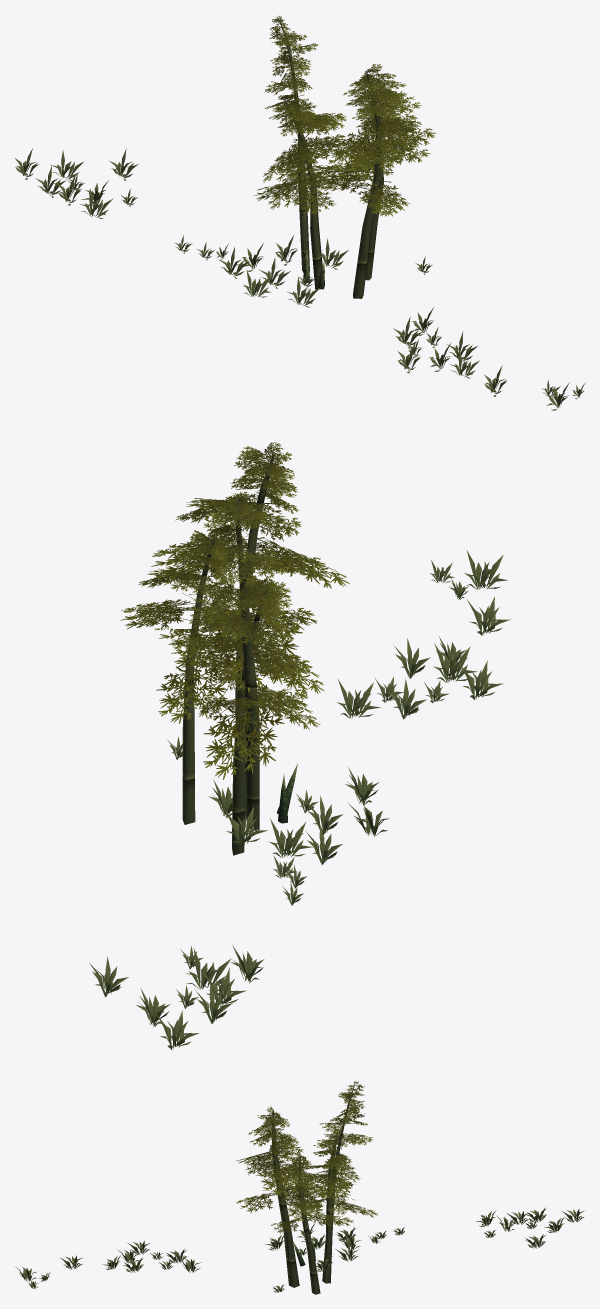
File: Area_09_14.fbx
3 views of the same model, one above another, from view 1: azimuth 30°, elevation 25°; view 2: azimuth 150°, elevation 25°; view 3: azimuth 270°, elevation 25° (orthographic). The views are drawn at different scales.
Visible parts, largest first — view 1: Area_09_14; view 2: Area_09_14; view 3: Area_09_14.
Boxes of the visible parts, x1,y1,x2,y2 form: Area_09_14: (15,16,585,410); Area_09_14: (89,442,510,1049); Area_09_14: (15,1081,584,1294).
Bounding box in the file's own units: 969 × 1021 × 2698.
